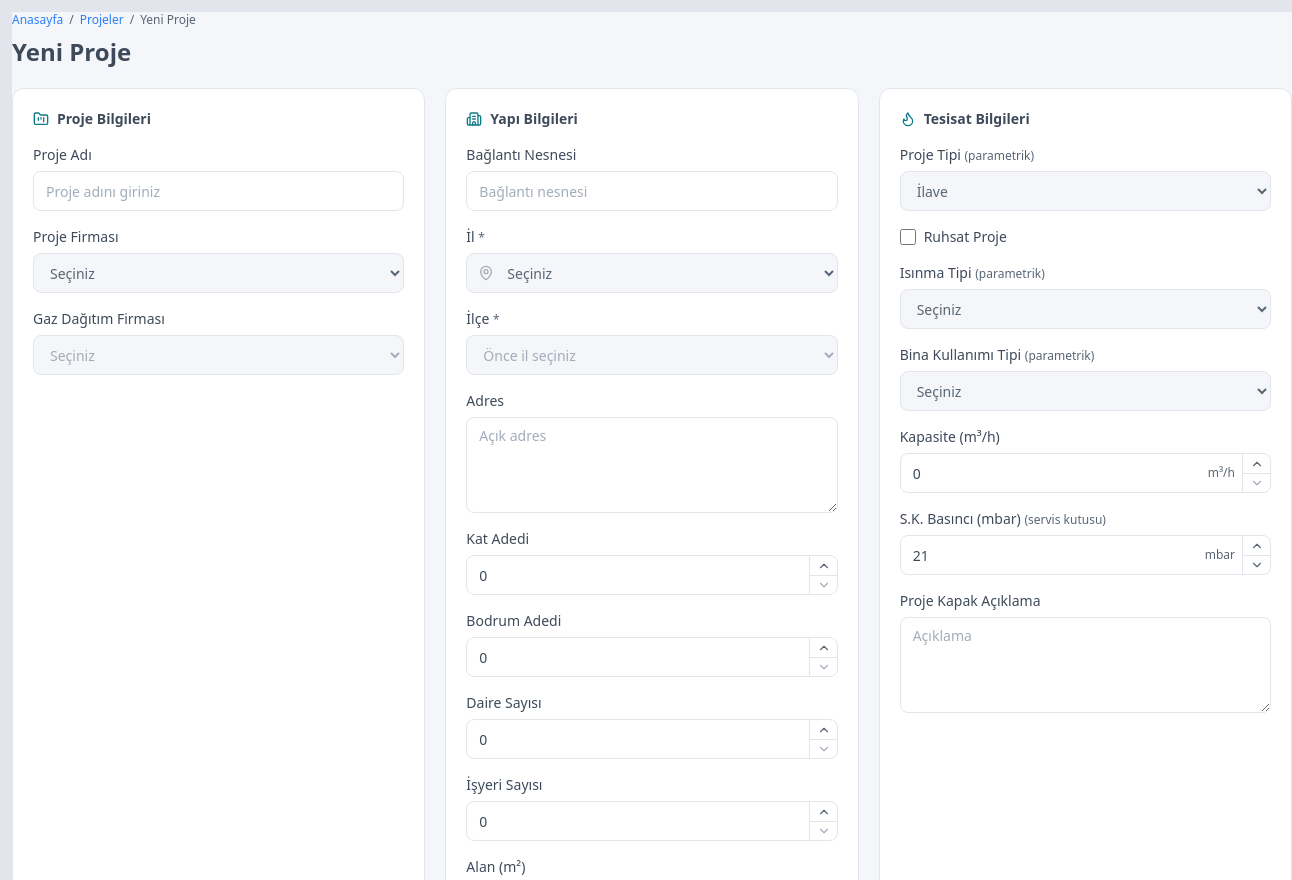
Test: NewProjectPage — gönderim › ilçe listesi yüklenemezse kutu boş açılmaz, sebebi yazar
The width and height of the screenshot is (1292, 880).
Select "Ankara" in the dropdown labelled "İl *" at point(652, 273), box [466,253,838,293]
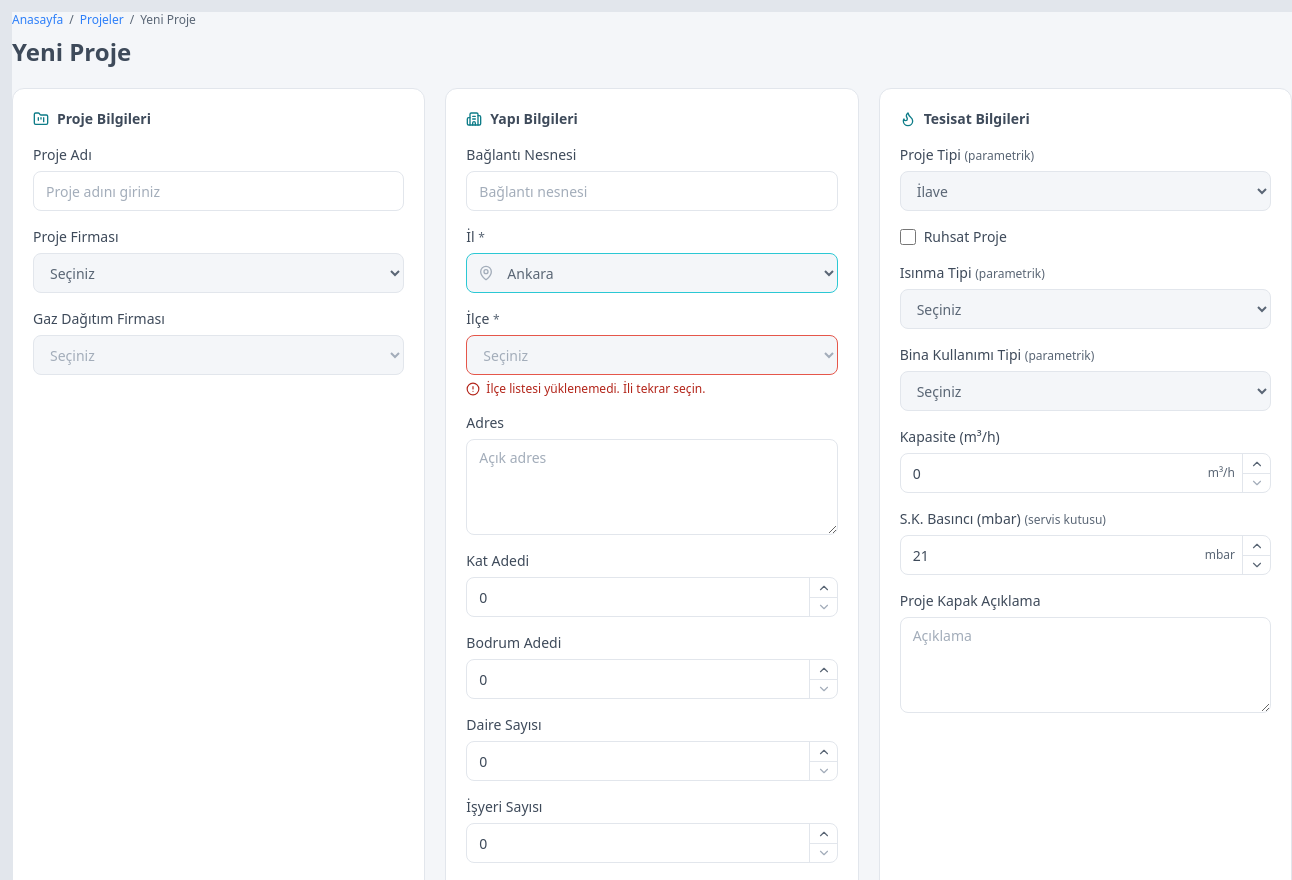
Expected: the dropdown labelled "İlçe *" is disabled, [466,335,838,375]
Expected: the text "İlçe listesi yüklenemedi. İli tekrar seçin." is shown, [466,380,705,397]
